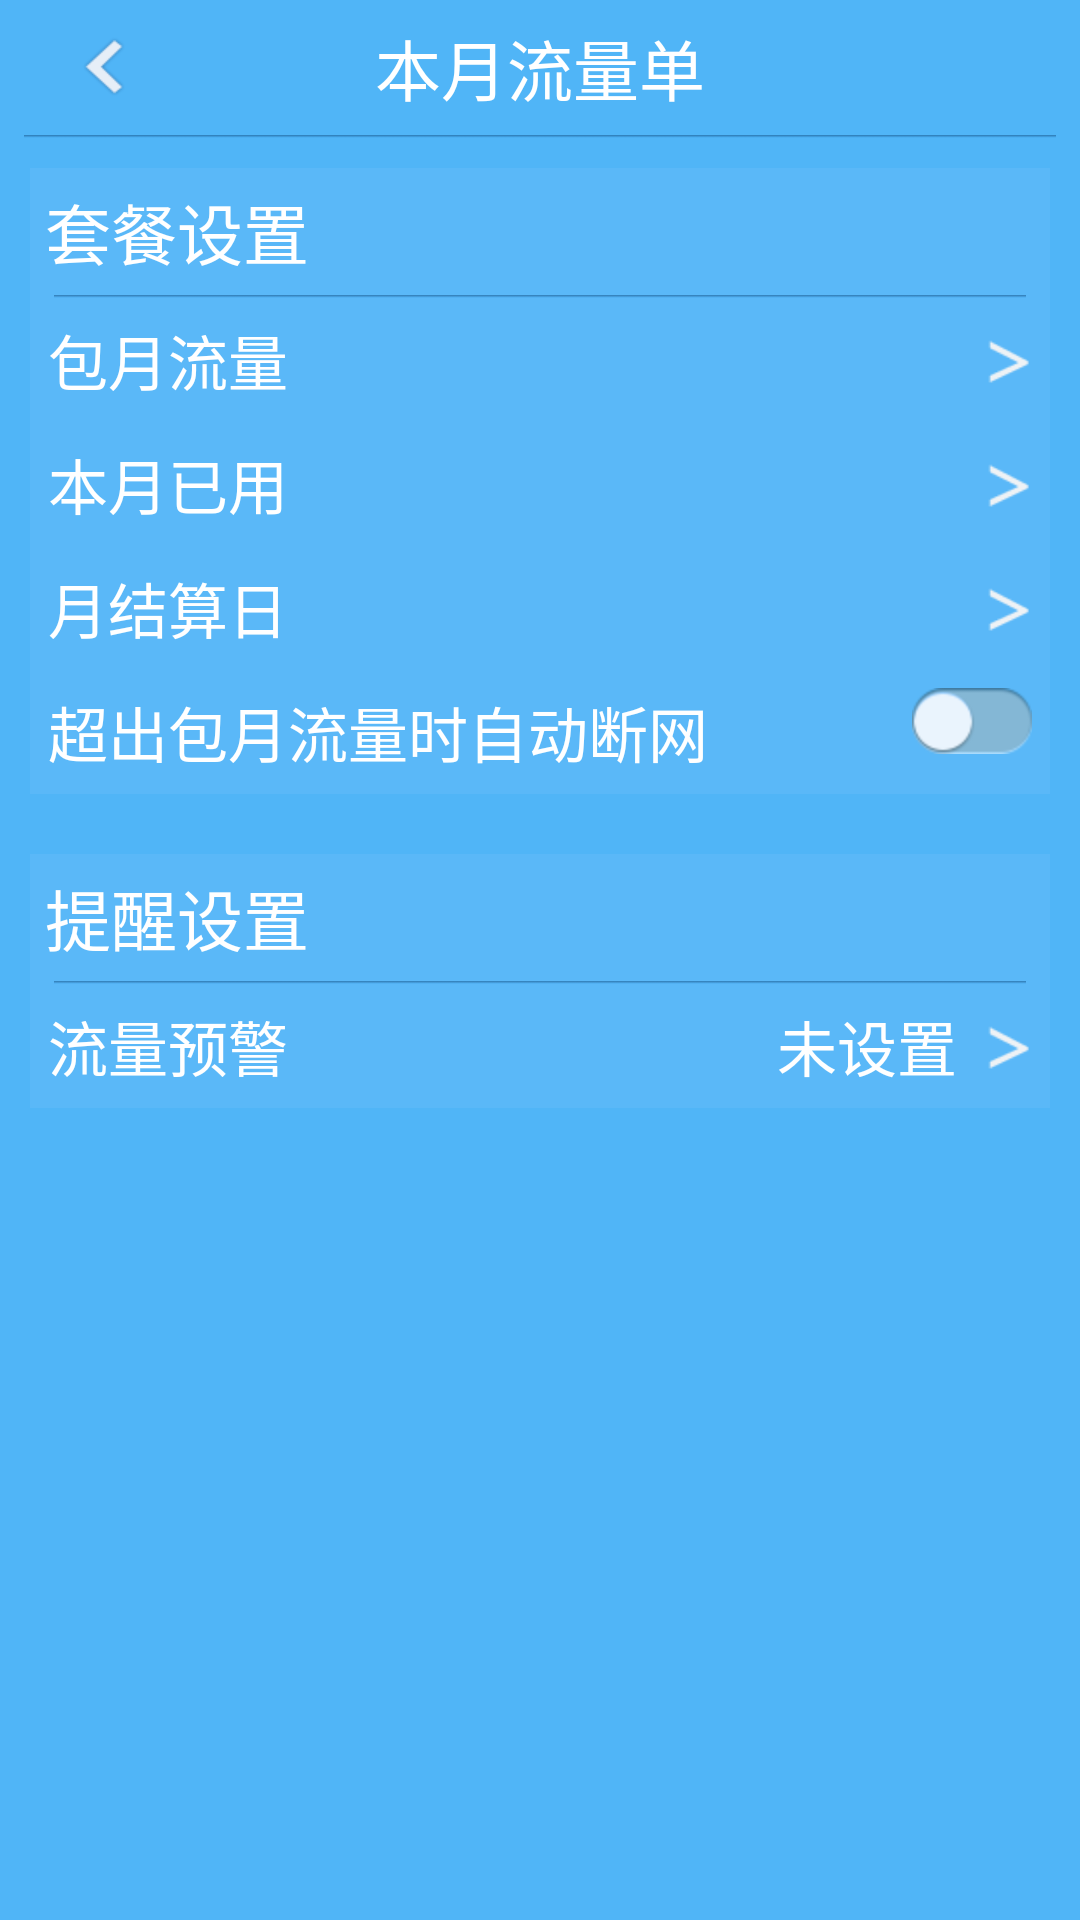

Where to tap for icons on this 1080 × 1920 app screen, as point (x, y):
change no: point (972, 721)
flow toright: point (1009, 362), point (1009, 486), point (1009, 610), point (1009, 1048)
toleft: point (104, 66)
